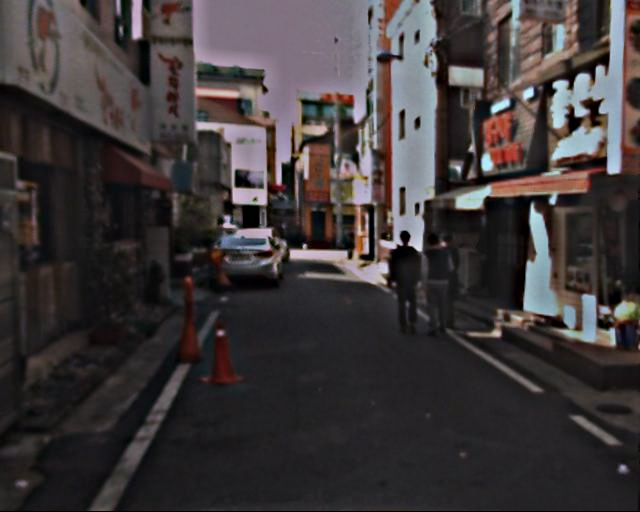person: (389, 230, 434, 340), (419, 235, 462, 339), (434, 233, 473, 328)
